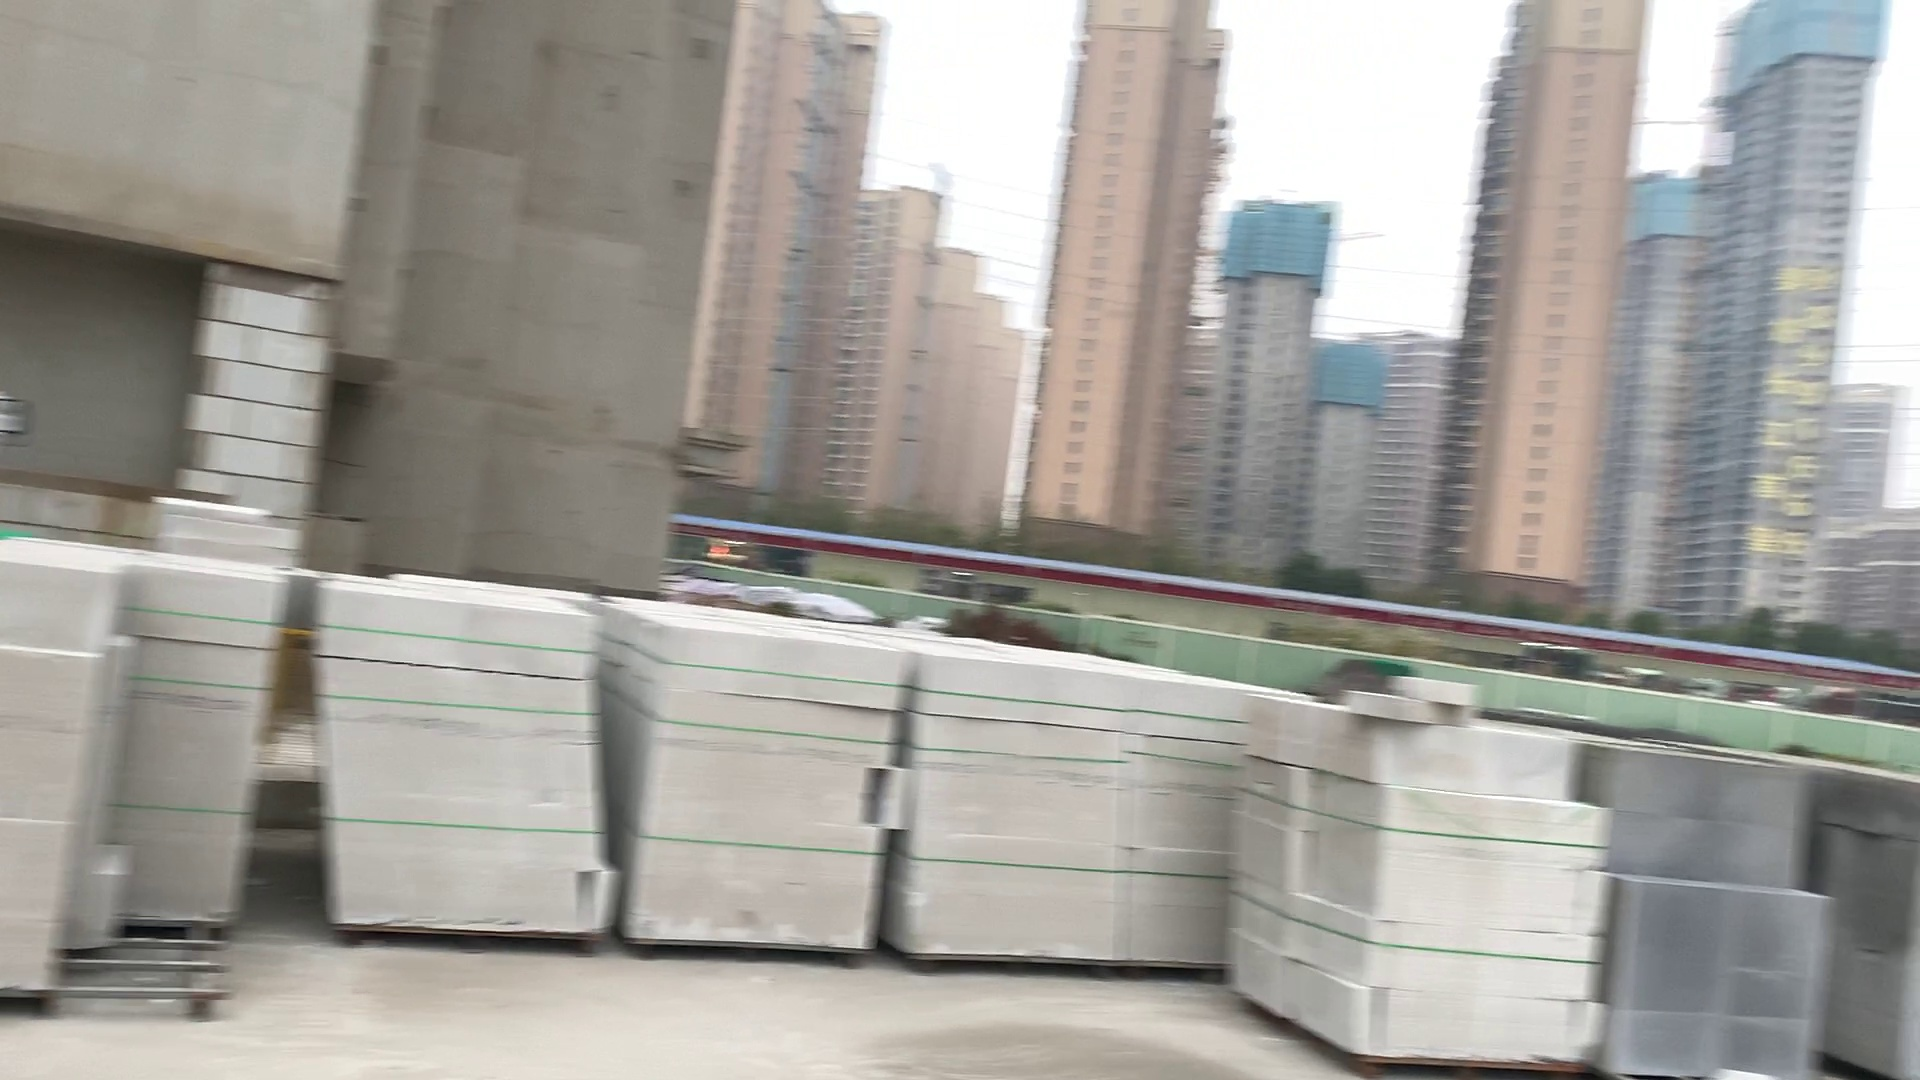brickwork: (1242, 705, 1607, 1064), (311, 580, 608, 945), (641, 618, 893, 964), (1600, 758, 1825, 1080), (909, 654, 1122, 984), (120, 564, 280, 924), (3, 562, 107, 989), (1143, 676, 1251, 968), (1818, 777, 1920, 1080)
